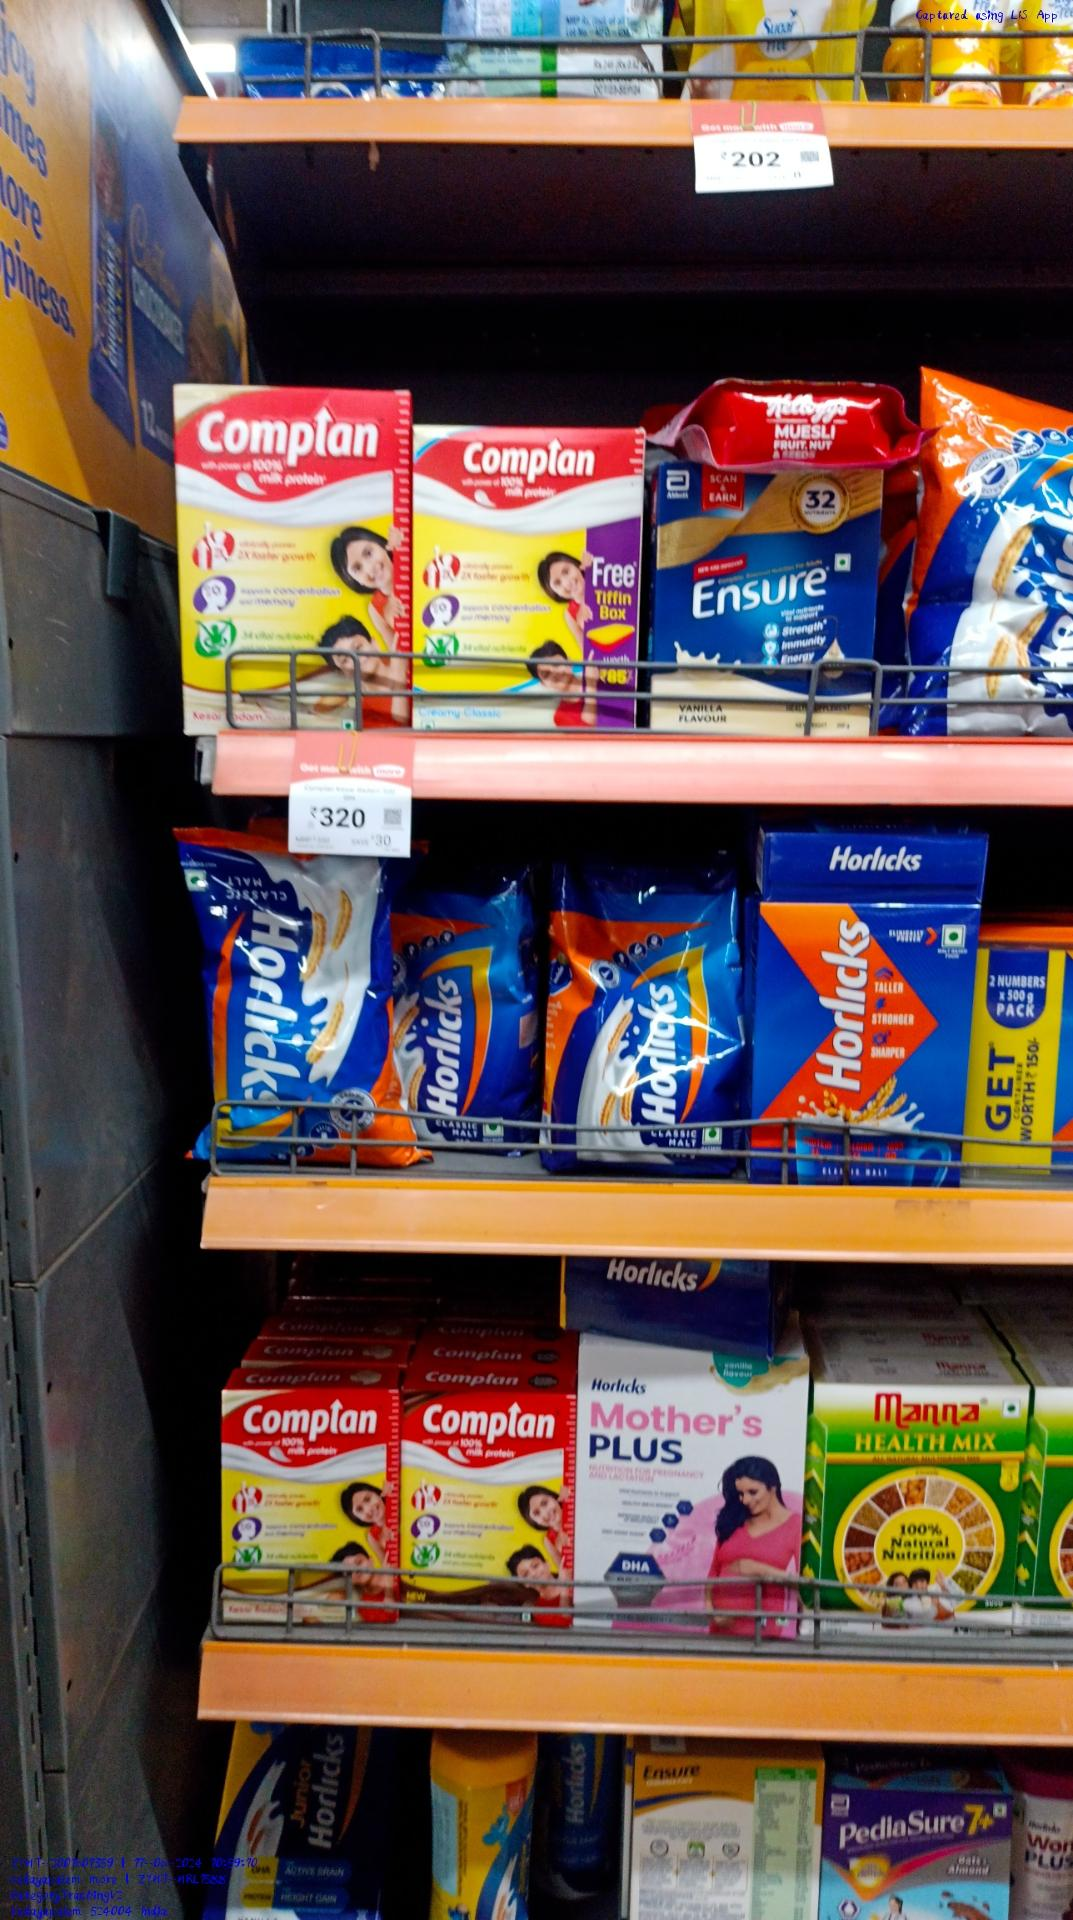COMPLAN_CHOCOLATE_500_GMS_PACK: (403, 1393, 573, 1623)
COMPLAN_CREAMY_CLASSIC_500_G_PACK: (417, 429, 641, 728)
COMPLAN_KESAR_BADAM_500_GMS_PACK: (174, 384, 407, 732), (221, 1389, 399, 1622)
ENSURE_VANILLA_400_G_PACK: (655, 465, 882, 736)
HORLICK_CLASSIC_MALT_500_G_PACK: (751, 906, 965, 1188)
